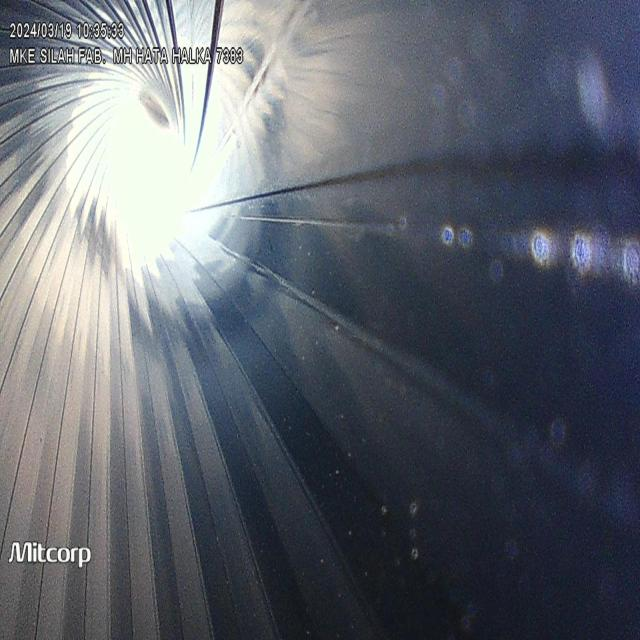hata_8.1: (207, 188, 411, 338)
